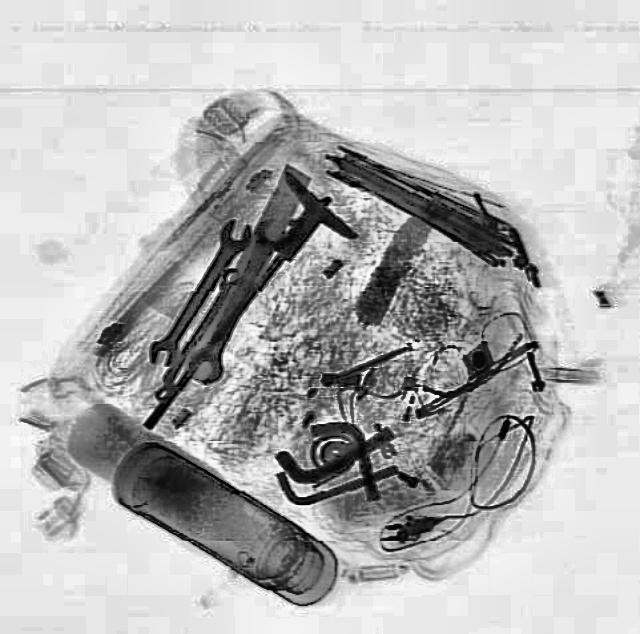Wrench: (176, 210, 294, 392), (140, 214, 258, 372)
